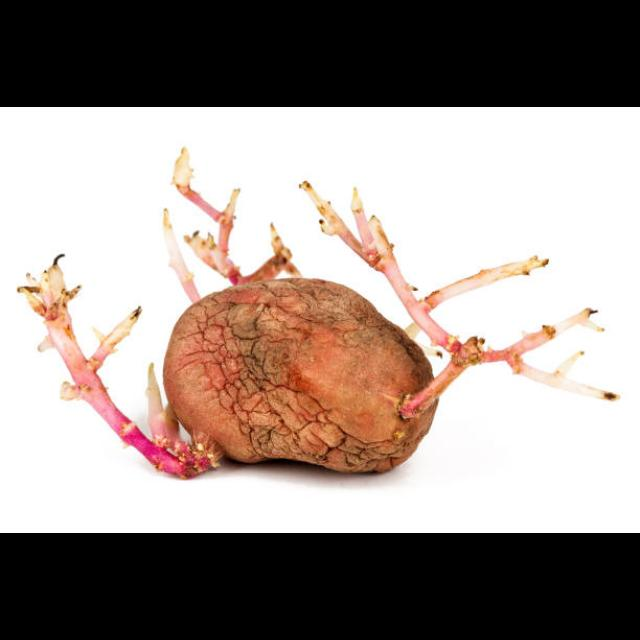Sprouted potato: (148, 154, 514, 480)
